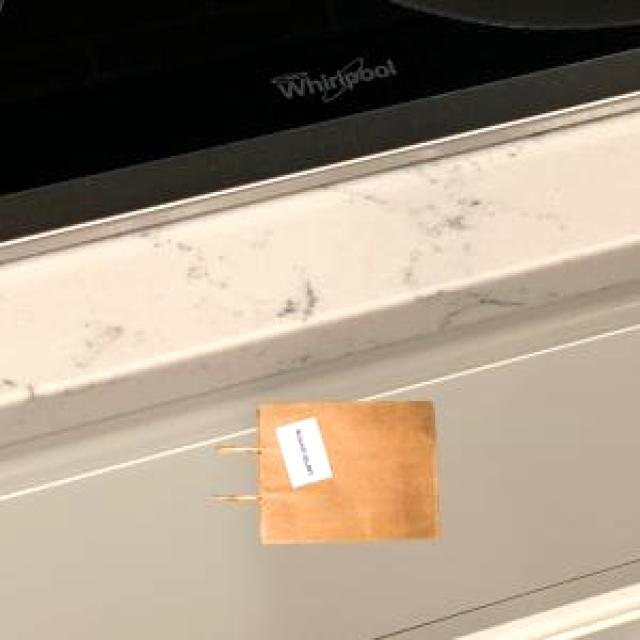Paper_Bag: (212, 398, 434, 541)
